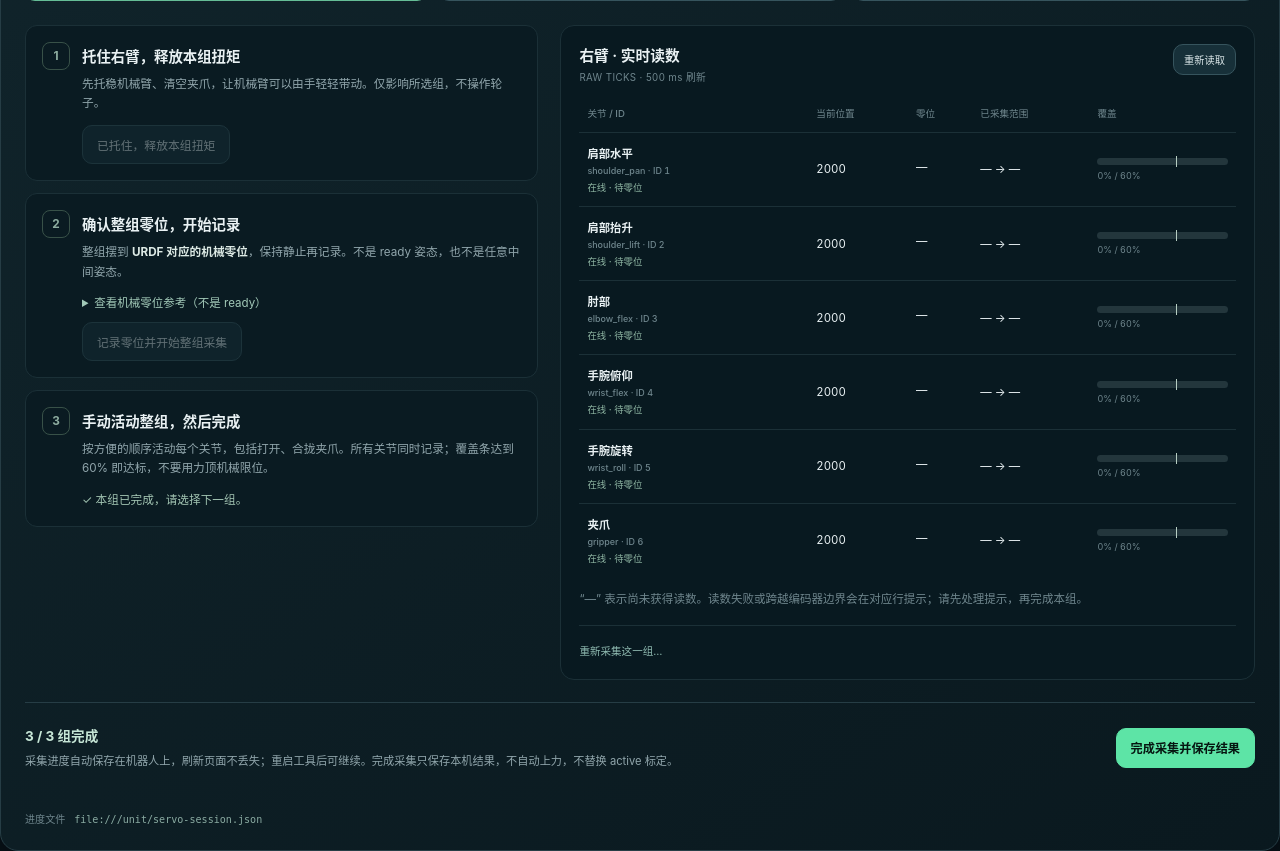
Test: whole-group servo calibration › displays the actual result path after all groups are saved without re-enabling torque
(page scrolled)
What coordinates should you click on to do the following:
click the button "完成采集并保存结果"
I would click on:
 (1185, 748)
Its box is top-left (1116, 728), bottom-right (1255, 768).
(page scrolled)
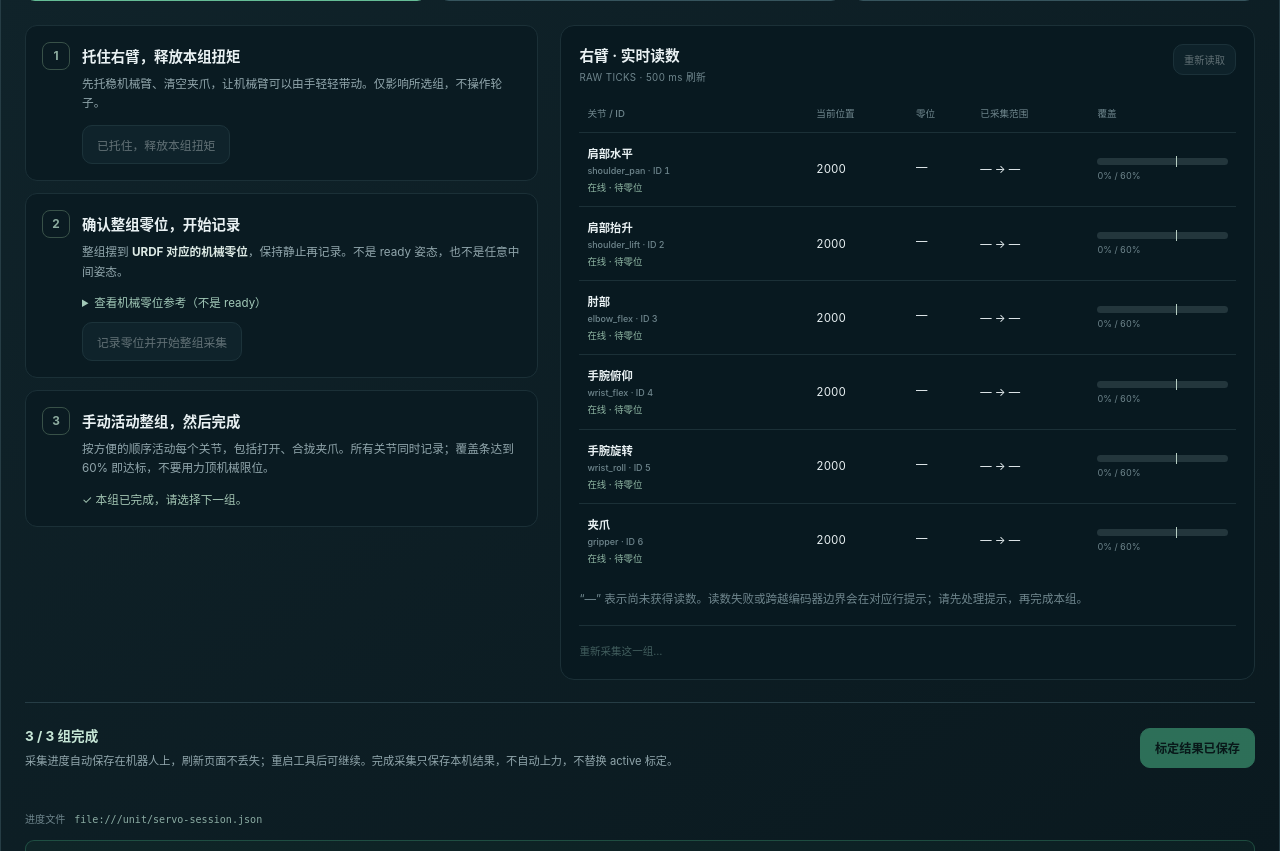
expect the button "标定结果已保存" is disabled: met, box top-left (1140, 728), bottom-right (1255, 768)
